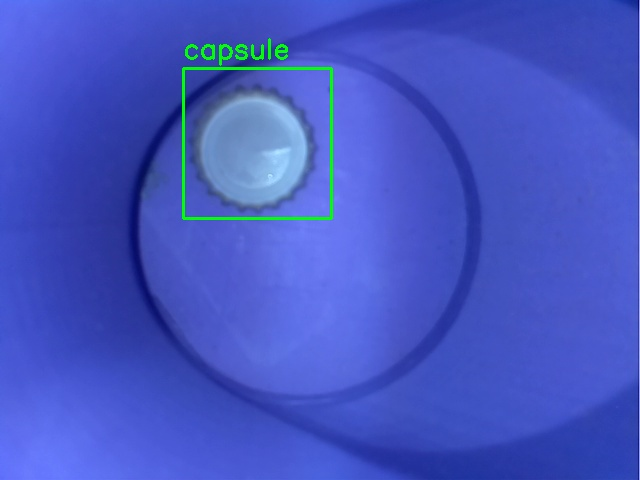capsule: (183, 68, 331, 218)
